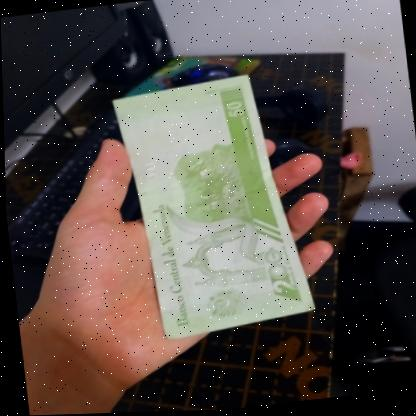fifty-back-vef: (110, 70, 316, 343)
